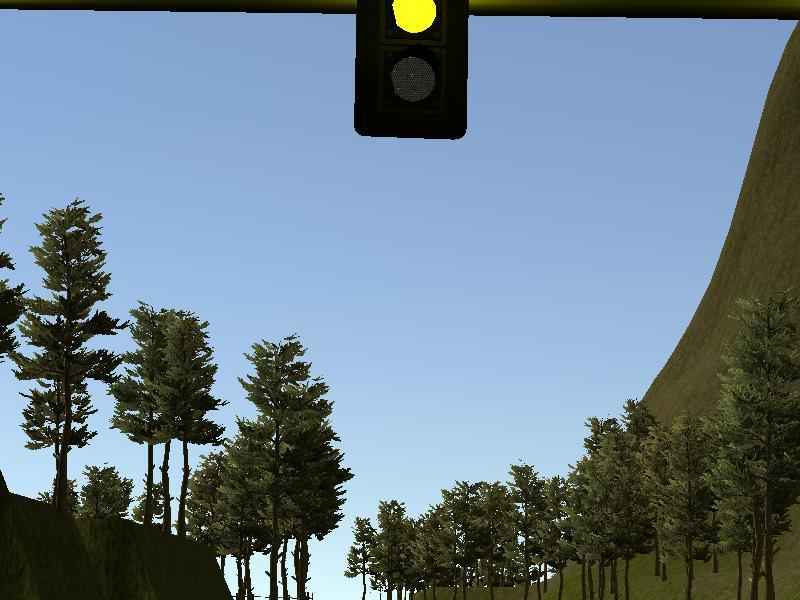Yellow: (352, 1, 472, 142)
